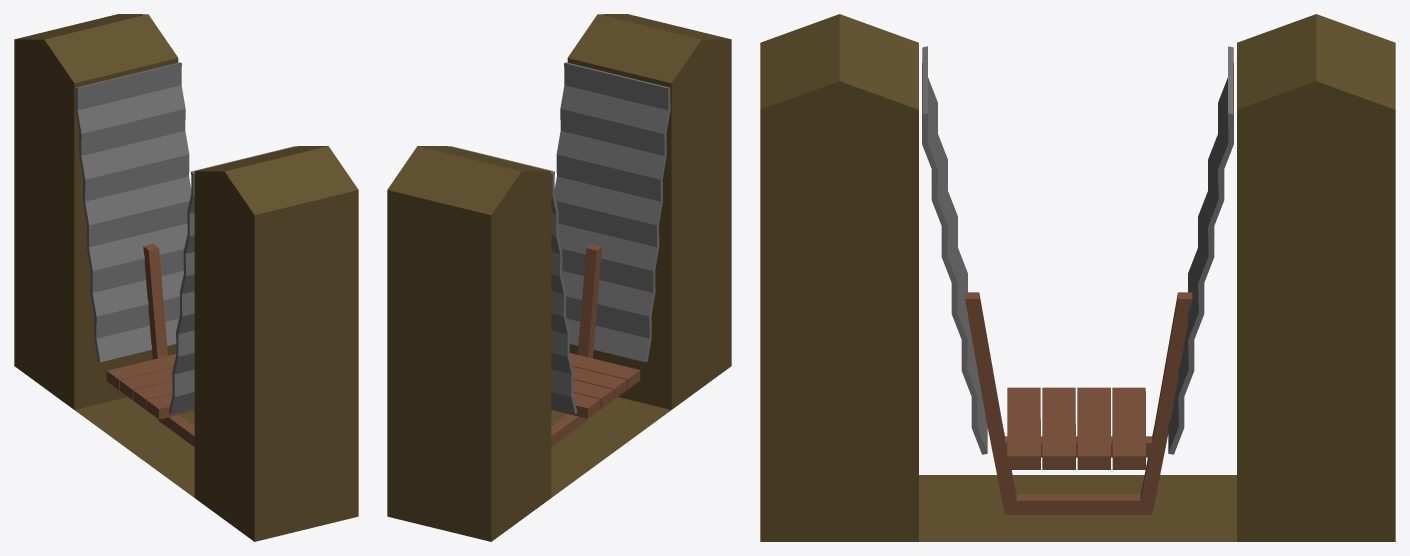
File: Trench T-Section Straight Half.fbx
3 views of the same model, side by side, from view 1: azimuth 30°, elevation 25°; view 2: azimuth 150°, elevation 25°; view 3: azimuth 270°, elevation 25° (orthographic). The views are drawn at different scales.
Visible parts, largest first — view 1: Trench Dirt T-Section Straight Half, Trench T-Section Straight Half; view 2: Trench Dirt T-Section Straight Half, Trench T-Section Straight Half; view 3: Trench Dirt T-Section Straight Half, Trench T-Section Straight Half.
Boxes of the visible parts, x1,y1,x2,y2 form: Trench Dirt T-Section Straight Half: (14,14,358,541); Trench T-Section Straight Half: (75,62,295,446); Trench Dirt T-Section Straight Half: (387,14,731,541); Trench T-Section Straight Half: (450,62,670,446); Trench Dirt T-Section Straight Half: (760,14,1395,541); Trench T-Section Straight Half: (922,46,1233,514).
Size of the model in its own units: 510 by 1600 by 2000.
